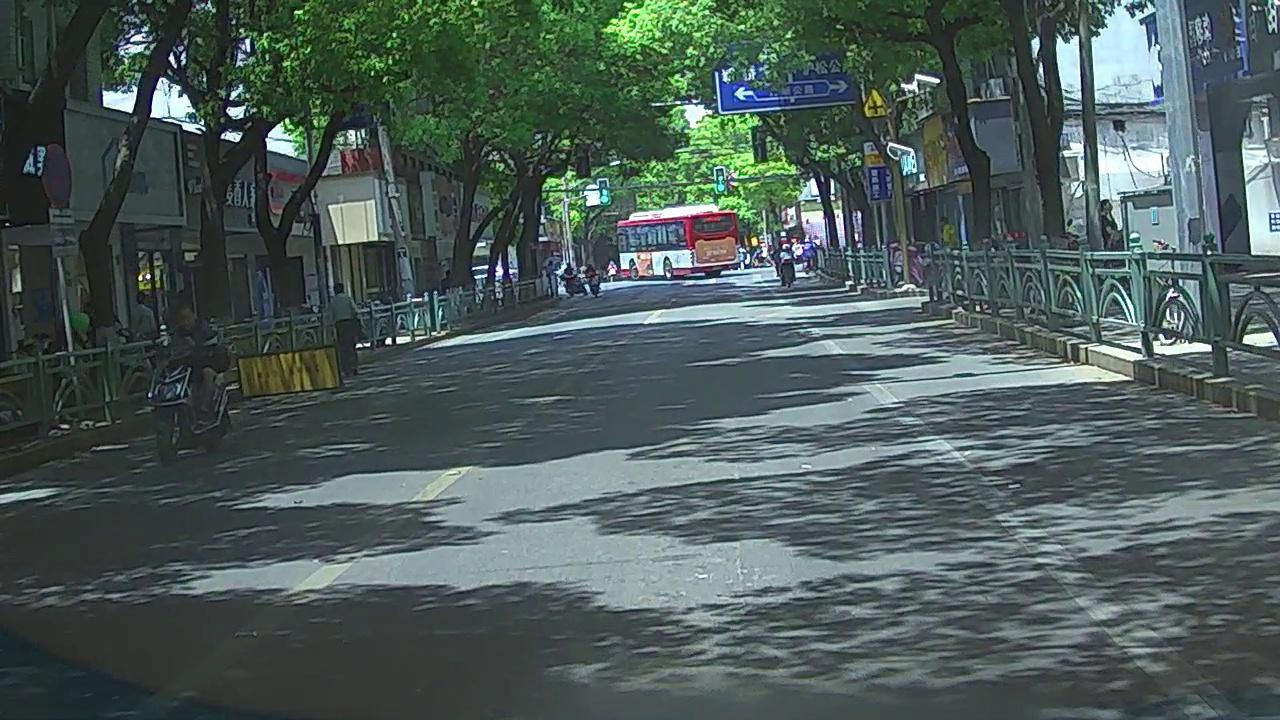traffic_light: (599, 179, 609, 204), (715, 168, 725, 193)
